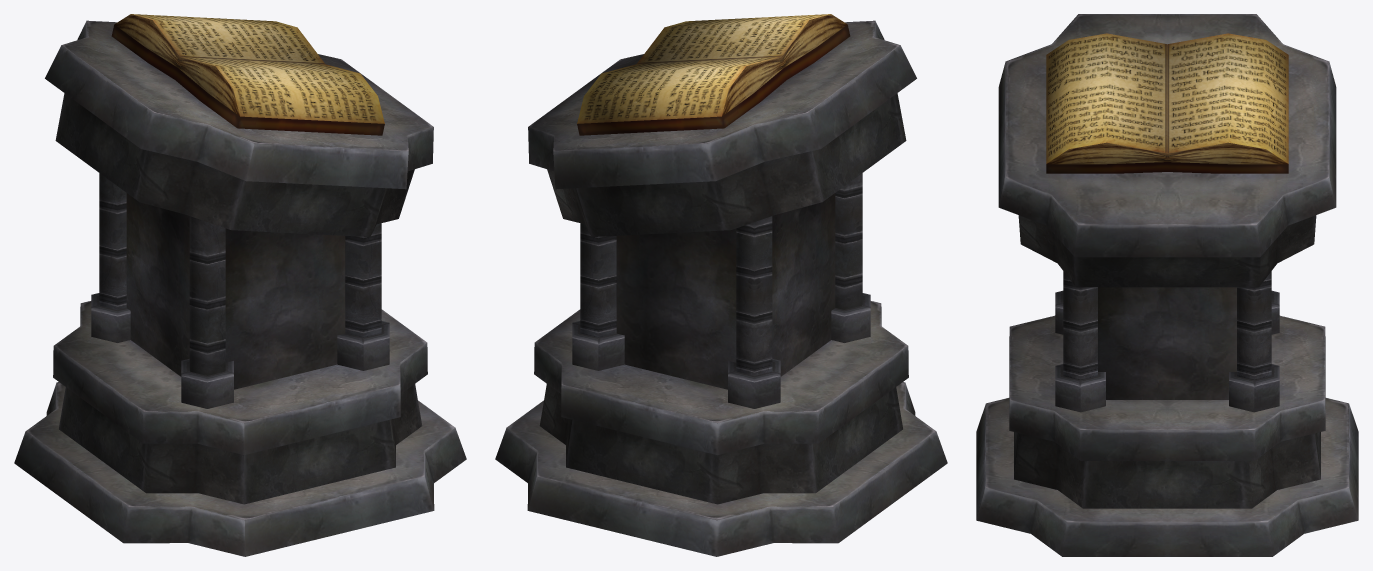
File: B_shutai001.fbx
3 renders of one model, left to right at view 1: azimuth 30°, elevation 25°; view 2: azimuth 150°, elevation 25°; view 3: azimuth 270°, elevation 25°, orthographic. The views are drawn at different scales.
Visible parts, largest first — view 1: B_shutai001; view 2: B_shutai001; view 3: B_shutai001.
Part boxes in pixels (x1,y1,x2,y2): B_shutai001: (14, 14, 466, 556); B_shutai001: (495, 14, 947, 556); B_shutai001: (976, 14, 1358, 556).
Bounding box in the file's own units: 114 × 137 × 114.
